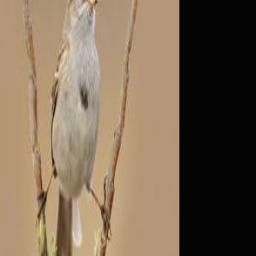Sparrow: (37, 0, 111, 256)
